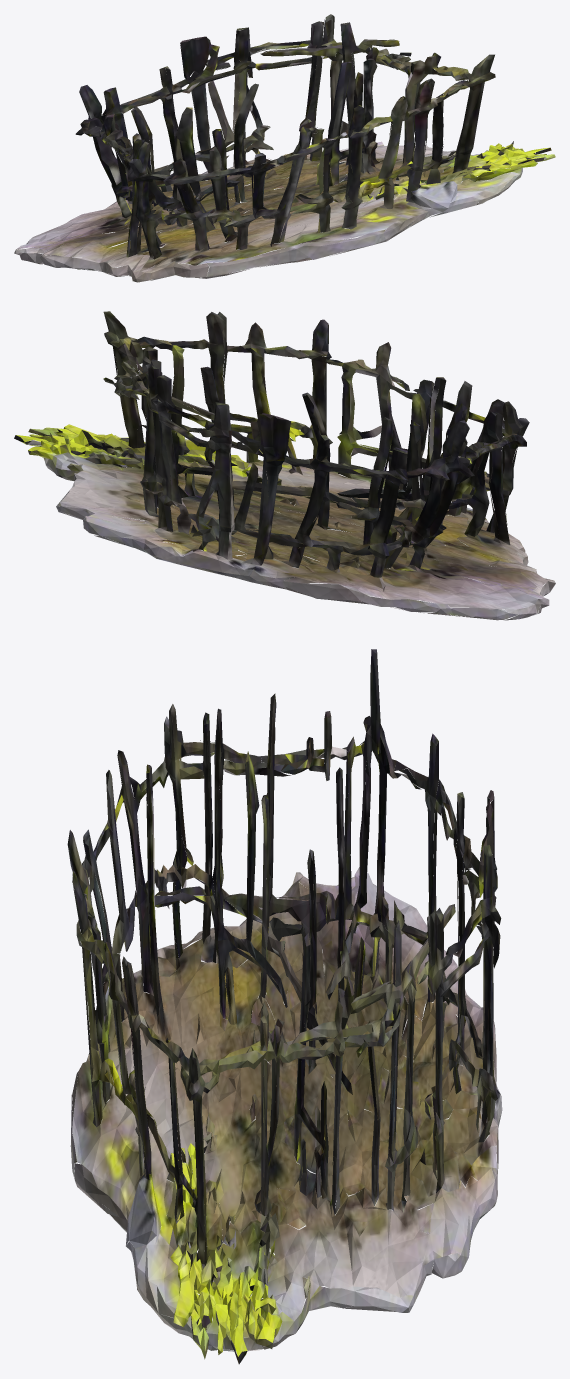
File: wt-wasteland-chain-barricade.glb
3 renders of one model, top to bottom at view 1: azimuth 30°, elevation 25°; view 2: azimuth 150°, elevation 25°; view 3: azimuth 270°, elevation 25°, orthographic. The views are drawn at different scales.
Parts seen in each view (by area): view 1: tmpecjqari1.ply; view 2: tmpecjqari1.ply; view 3: tmpecjqari1.ply.
Part boxes in pixels (x1=…): tmpecjqari1.ply: x1=14, y1=14, x2=555, y2=282; tmpecjqari1.ply: x1=14, y1=311, x2=555, y2=620; tmpecjqari1.ply: x1=67, y1=649, x2=502, y2=1364.
Size of the model in its own units: 3.03 by 0.917 by 1.12.
1 material, 1 textured.
